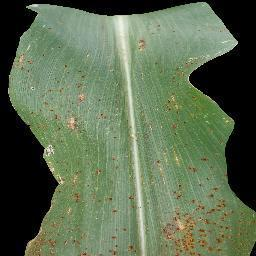Corn_Common_Rust: (5, 37, 154, 256), (148, 55, 256, 256), (212, 19, 245, 51), (152, 20, 173, 34)
